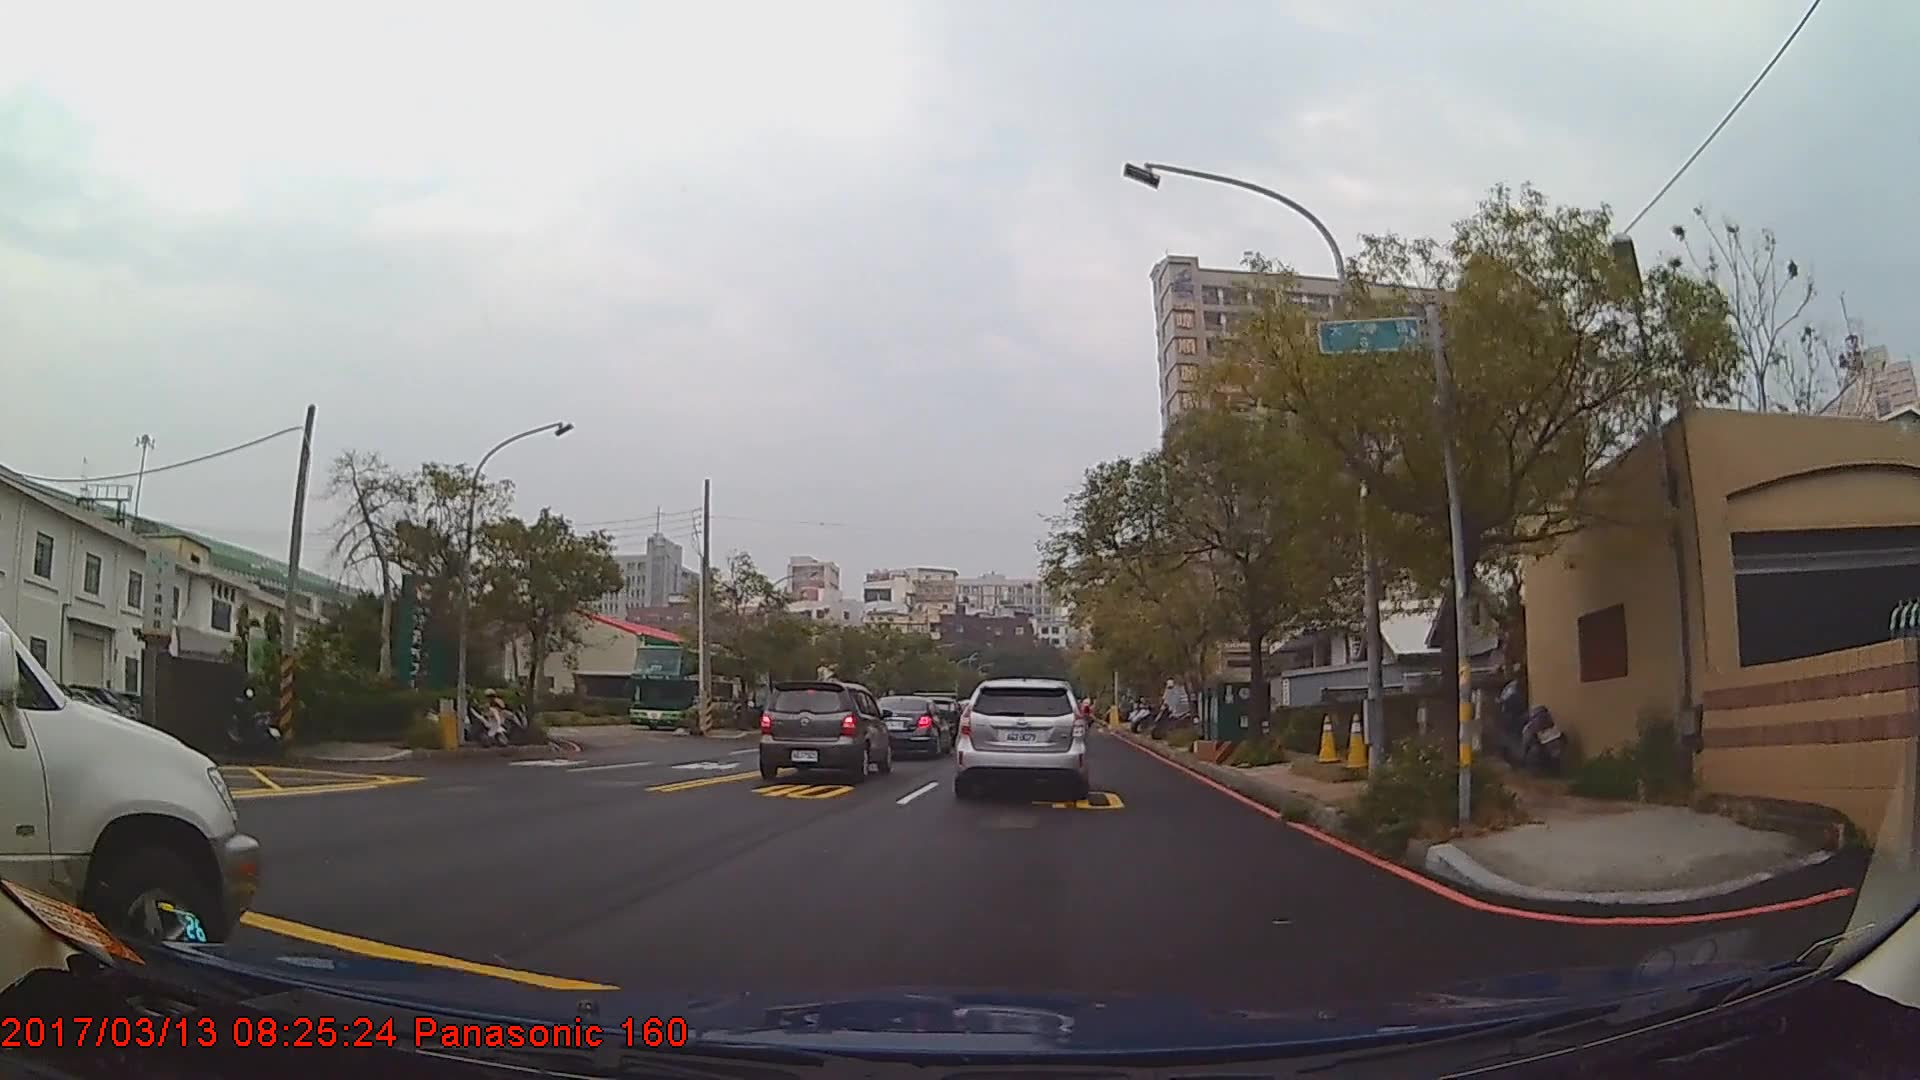vehicle: (0, 609, 258, 978), (953, 675, 1091, 799), (756, 678, 891, 775), (628, 640, 752, 727), (866, 690, 951, 758)
